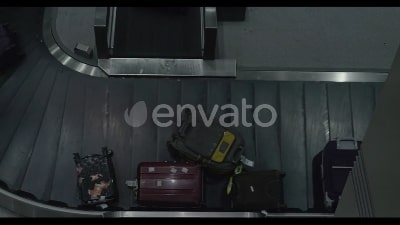baggage: (164, 117, 254, 169), (129, 158, 212, 208), (67, 147, 121, 214), (317, 135, 365, 209), (223, 167, 289, 216)
